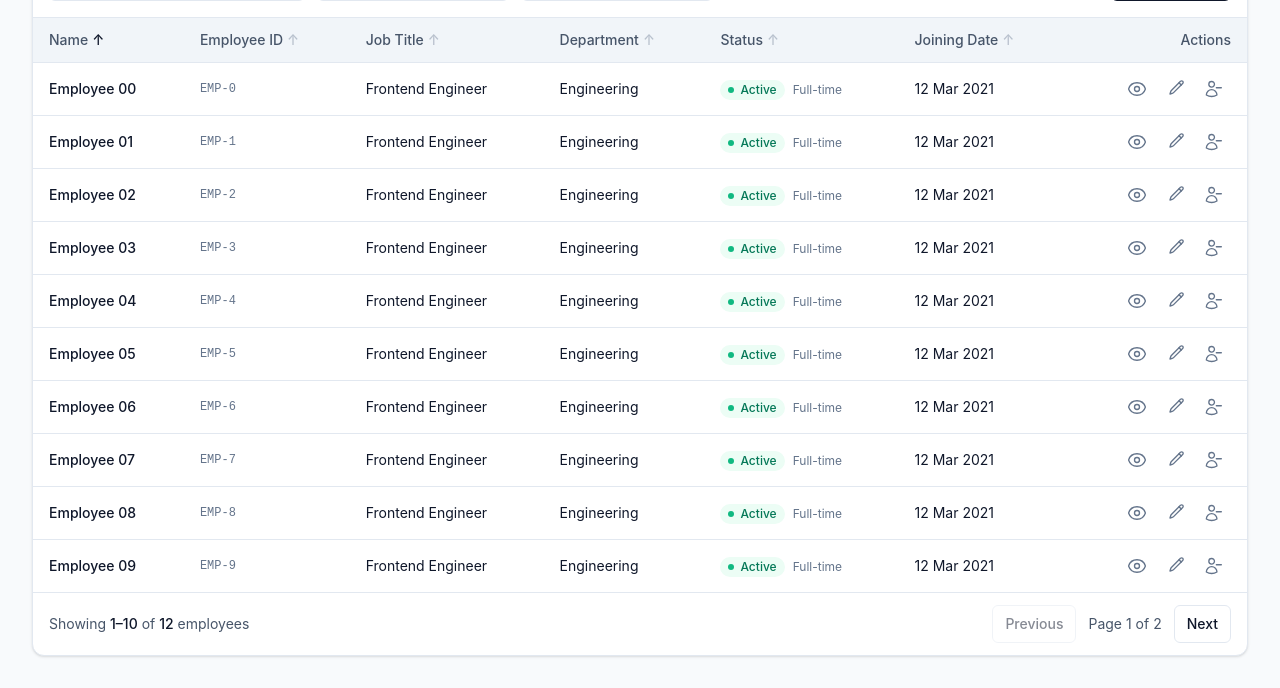
Test: employee list › paginates instead of rendering every employee at once
The width and height of the screenshot is (1280, 688).
(page scrolled)
Expected: the column heading "Employee 00" is shown, [33,63,184,116]
Expected: the text "Employee 10" is not shown
Click the button "Next" at (1202, 624), box [1174,605,1231,643]
(page scrolled)
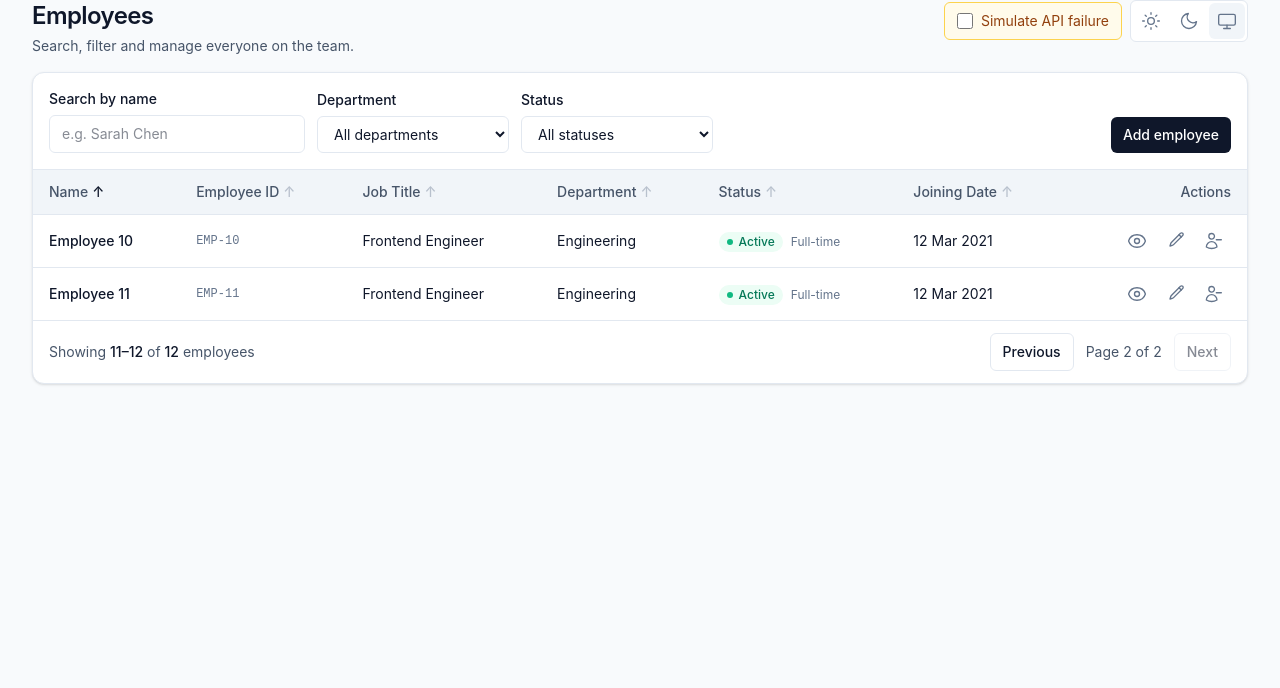
Result: the column heading "Employee 10" is shown at [33,215,180,268]
Result: the column heading "Employee 00" is gone
